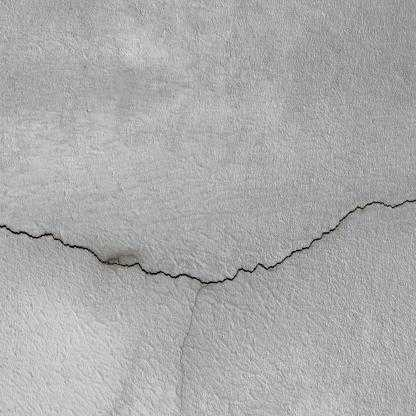crack: (0, 199, 416, 284), (180, 285, 208, 406)
